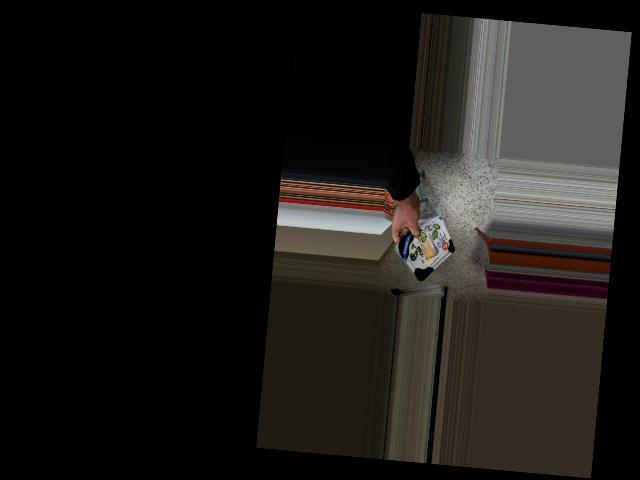cheese: (379, 220, 460, 275)
